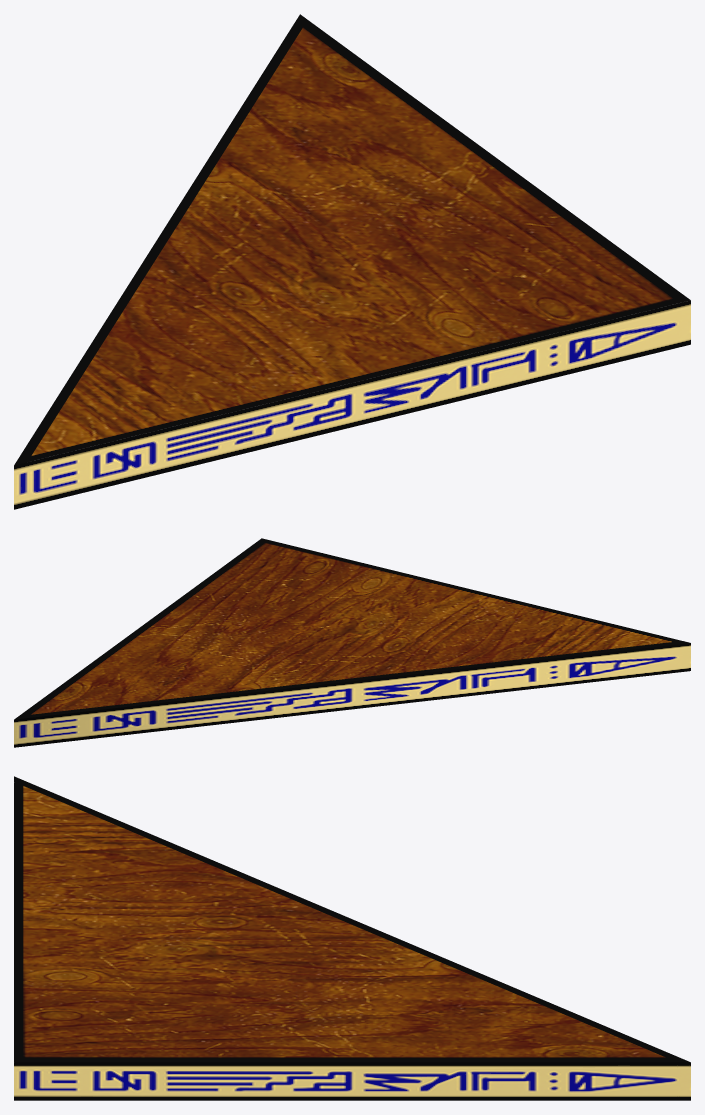
The model's file is jungle_half_floor.gltf.
The picture shows the model from 3 angles, top to bottom: view 1: azimuth 30°, elevation 25°; view 2: azimuth 150°, elevation 25°; view 3: azimuth 270°, elevation 25°; orthographic projection. The views are drawn at different scales.
Parts seen in each view (by area): view 1: jungle_half_floor_glb; view 2: jungle_half_floor_glb; view 3: jungle_half_floor_glb.
Boxes of the visible parts, x1,y1,x2,y2 form: jungle_half_floor_glb: [14, 14, 690, 509]; jungle_half_floor_glb: [14, 538, 690, 747]; jungle_half_floor_glb: [14, 776, 690, 1100].
Size of what is drawn, in the model's own units: 4 by 0.25 by 4.
Materials: 1 (1 with a texture image).
